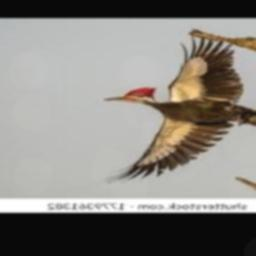Woodpecker: (99, 36, 256, 185)
